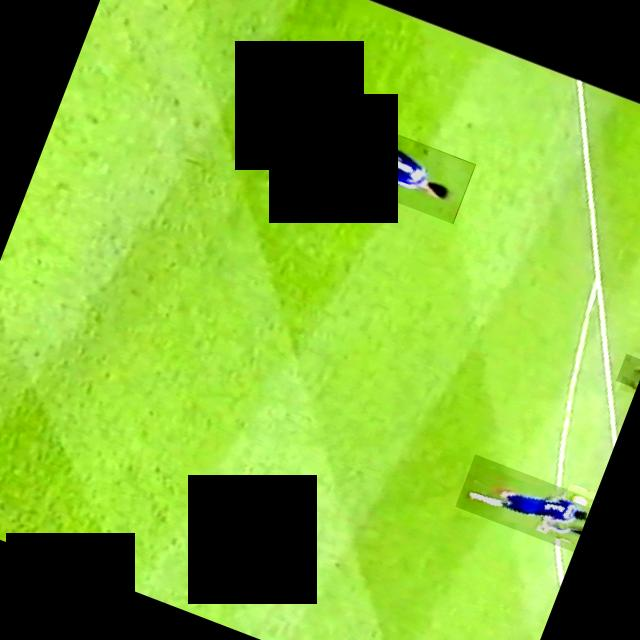ball: (564, 482, 596, 508)
referee: (616, 353, 640, 388)
soccer-player: (259, 89, 476, 223), (455, 454, 594, 552)
